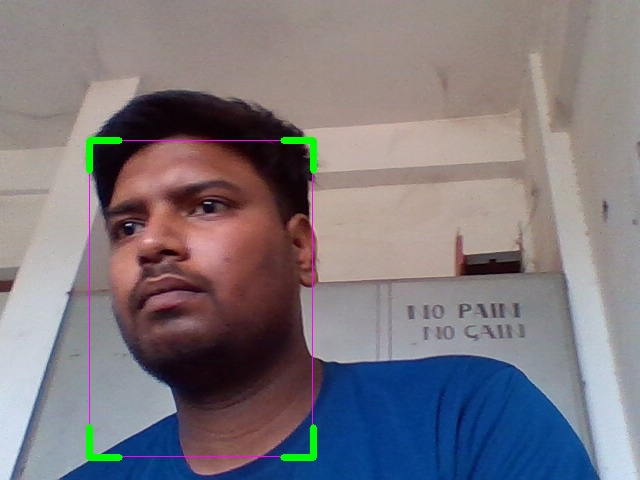real: (89, 140, 313, 457)
